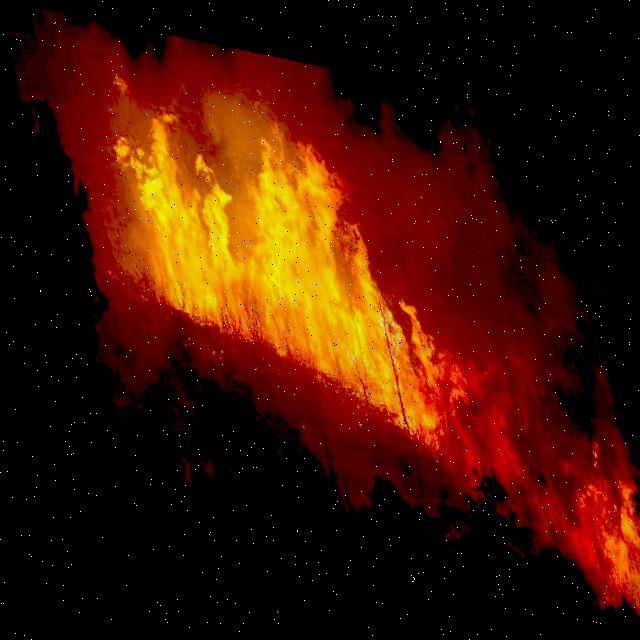Fire: (106, 69, 639, 606)
